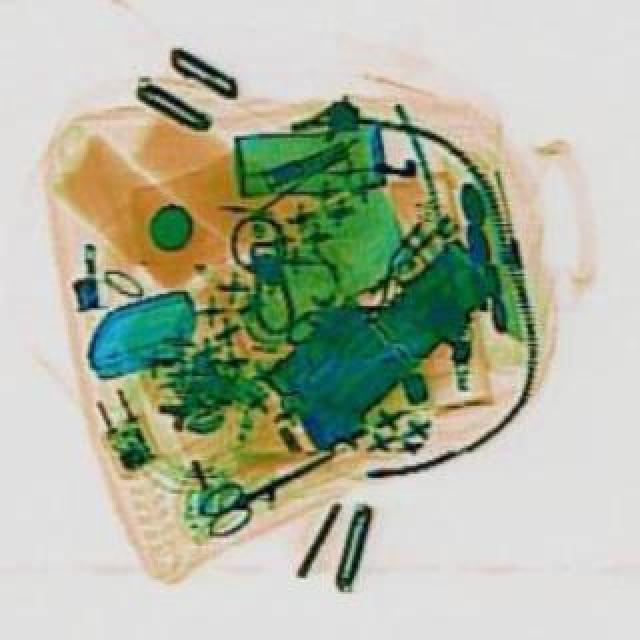pliers: (184, 428, 344, 540)
